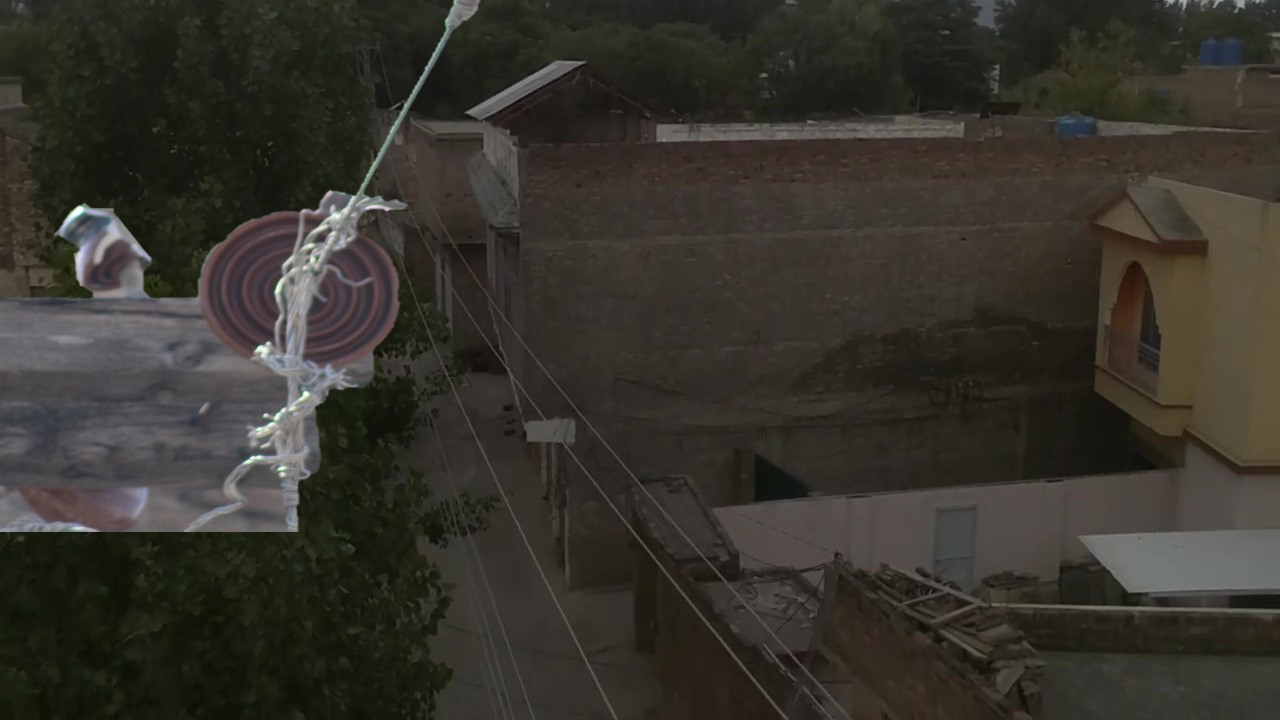defect_pin: (50, 191, 153, 293)
insulator_disc: (197, 197, 408, 371)
